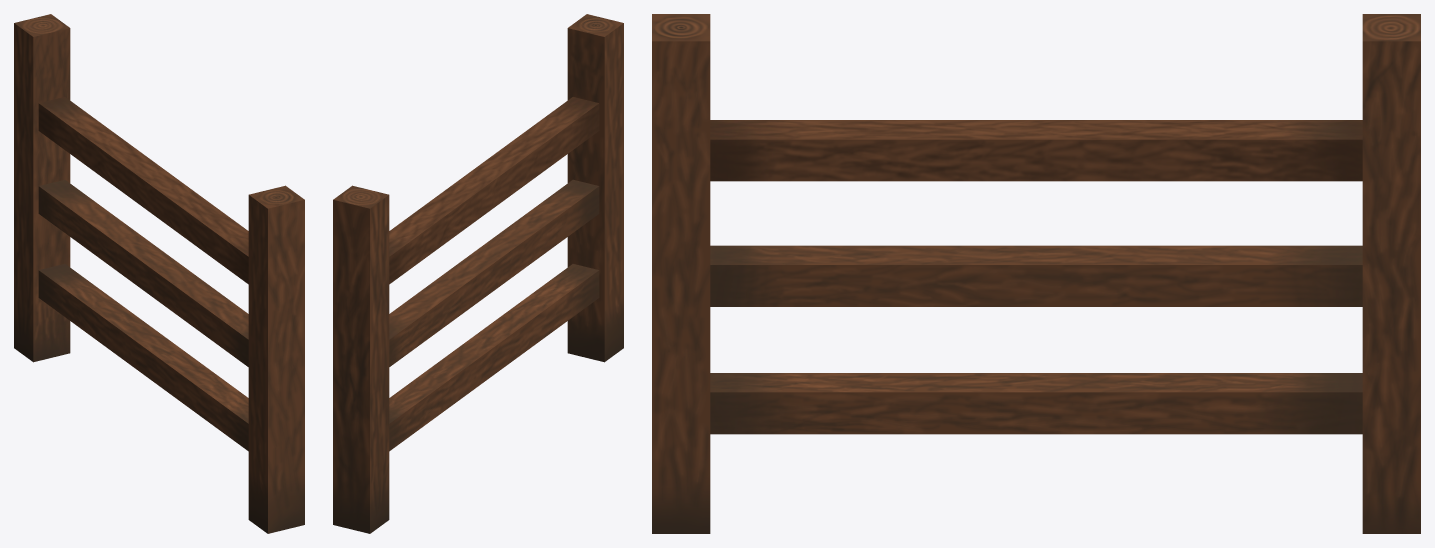
File: wooden_fence.fbx
3 views of the same model, side by side, from view 1: azimuth 30°, elevation 25°; view 2: azimuth 150°, elevation 25°; view 3: azimuth 270°, elevation 25° (orthographic). The views are drawn at different scales.
Visible parts, largest first — view 1: Cube.001; view 2: Cube.001; view 3: Cube.001.
Part boxes in pixels (x1=…): Cube.001: x1=14, y1=14, x2=304, y2=533; Cube.001: x1=333, y1=14, x2=623, y2=533; Cube.001: x1=652, y1=14, x2=1420, y2=533.
Size of the model in its own units: 18.2 by 153 by 216.
